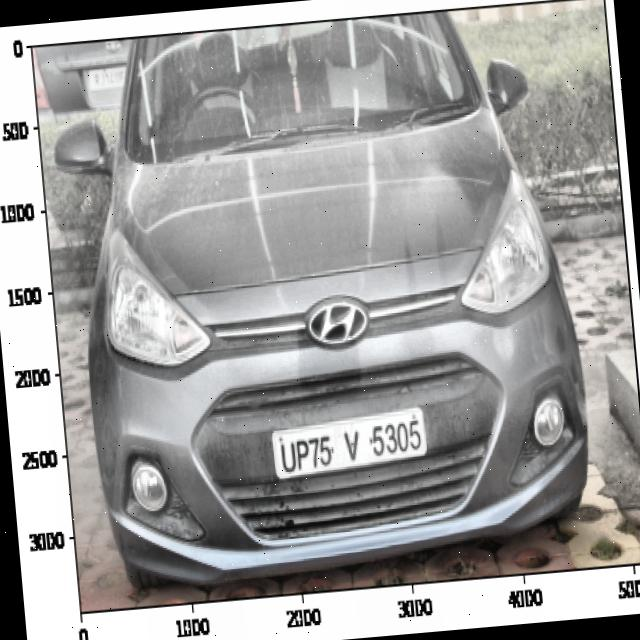license_plate: (274, 412, 428, 478)
